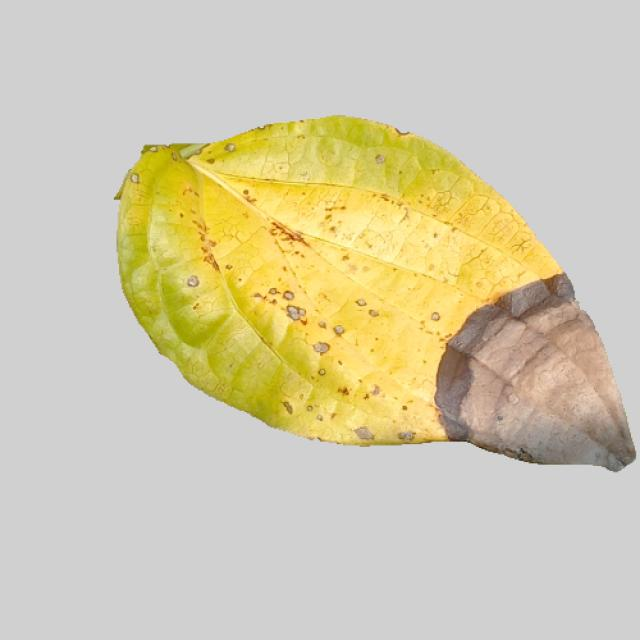leaf-blight: (99, 119, 631, 477)
